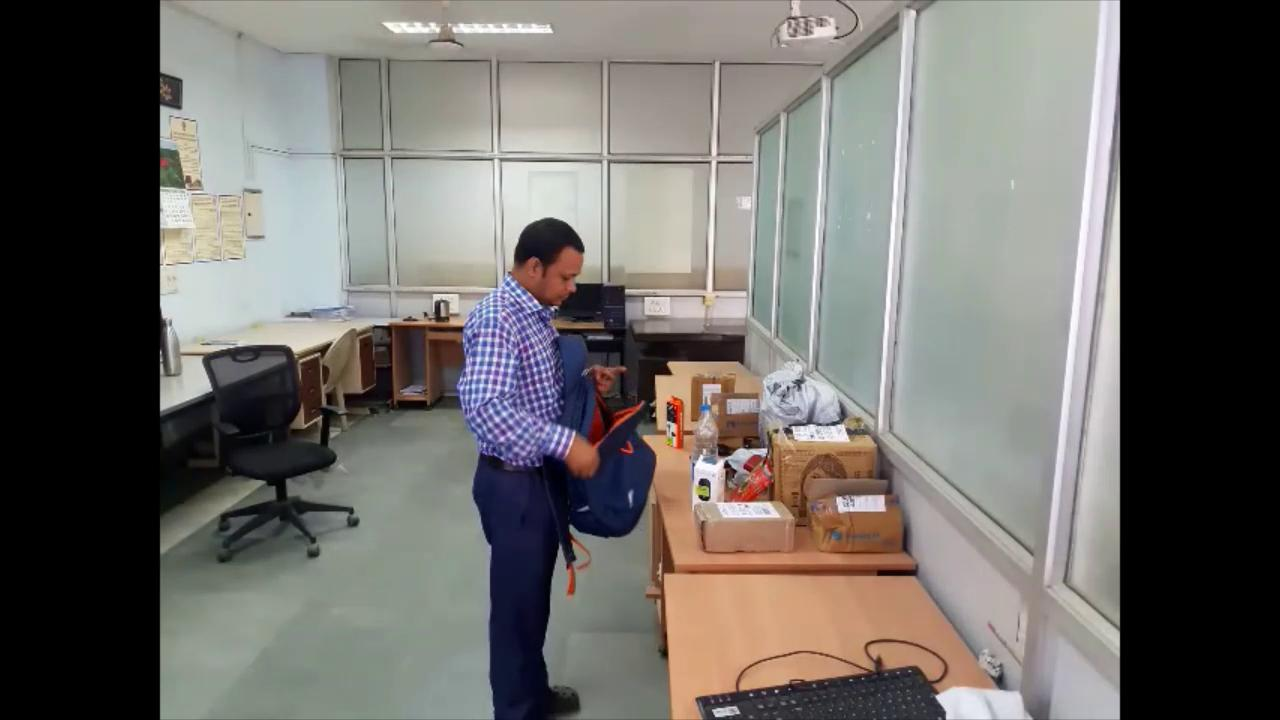shoplifting: (453, 214, 656, 720)
